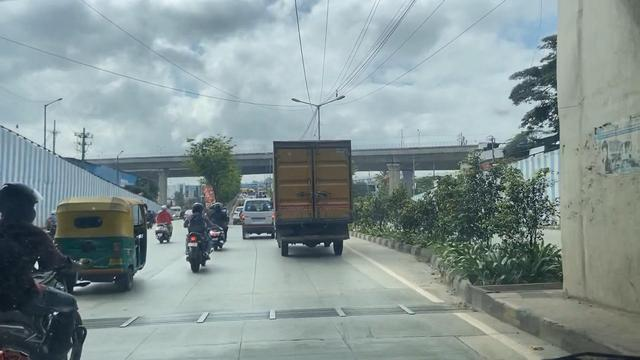HMV: (272, 141, 354, 255)
LMV: (46, 204, 149, 287), (184, 202, 210, 262), (237, 198, 274, 236)
